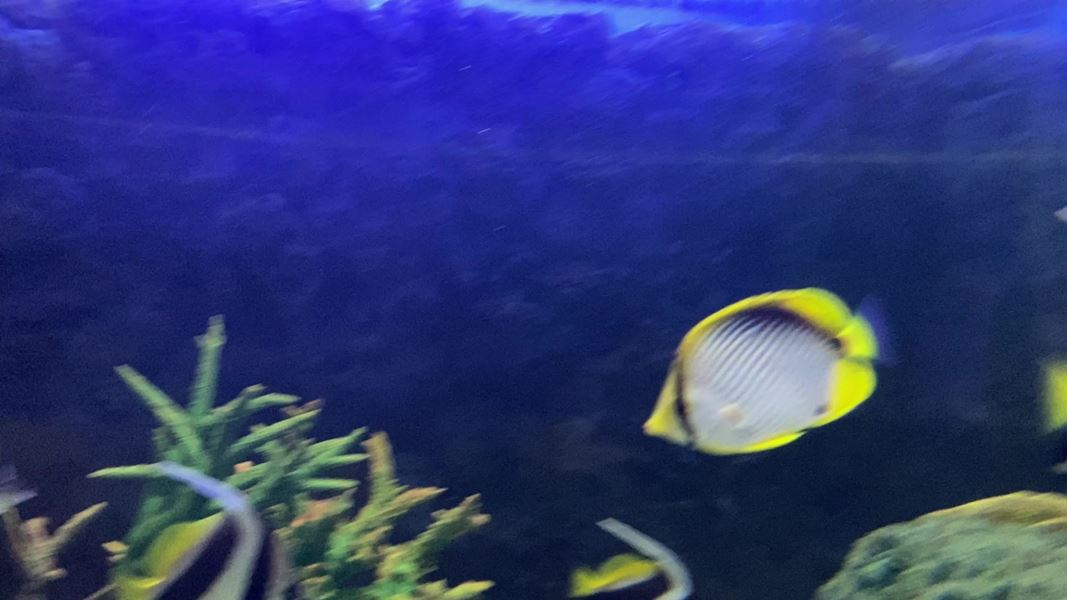Black-backed butterflyfish: (629, 273, 914, 467)
